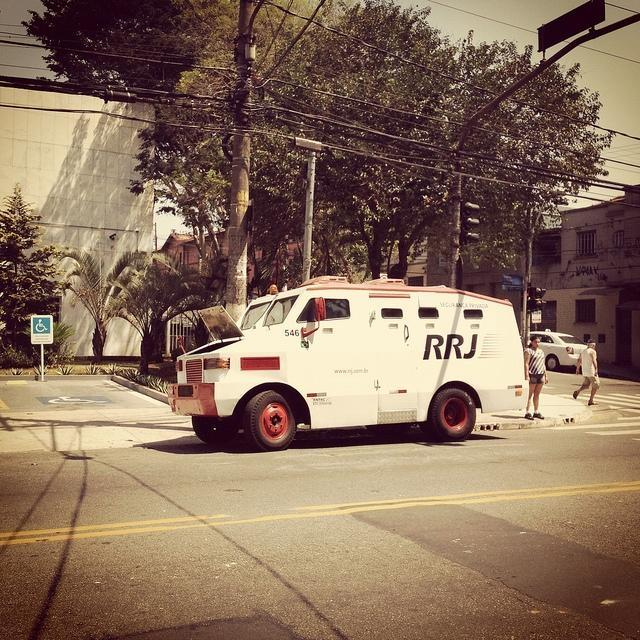car: (530, 328, 588, 371)
truck: (175, 275, 527, 451)
